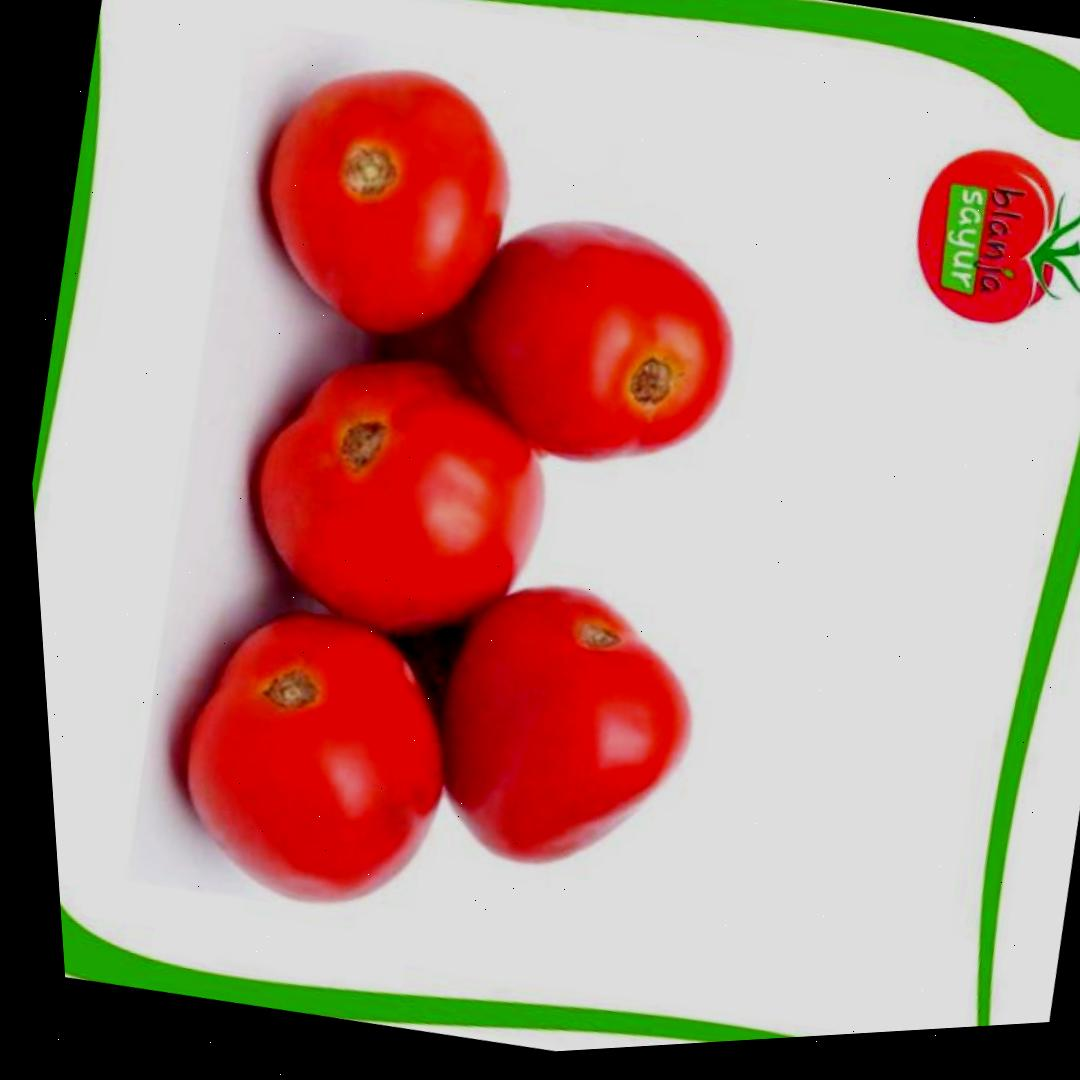matang: (219, 320, 581, 671), (151, 582, 486, 935), (404, 553, 726, 896), (433, 190, 768, 497), (234, 37, 545, 360)
